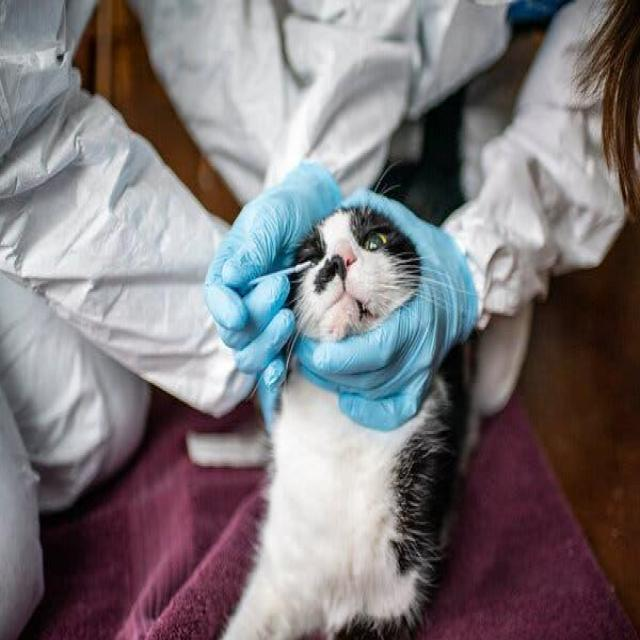Cat: (282, 210, 414, 348)
